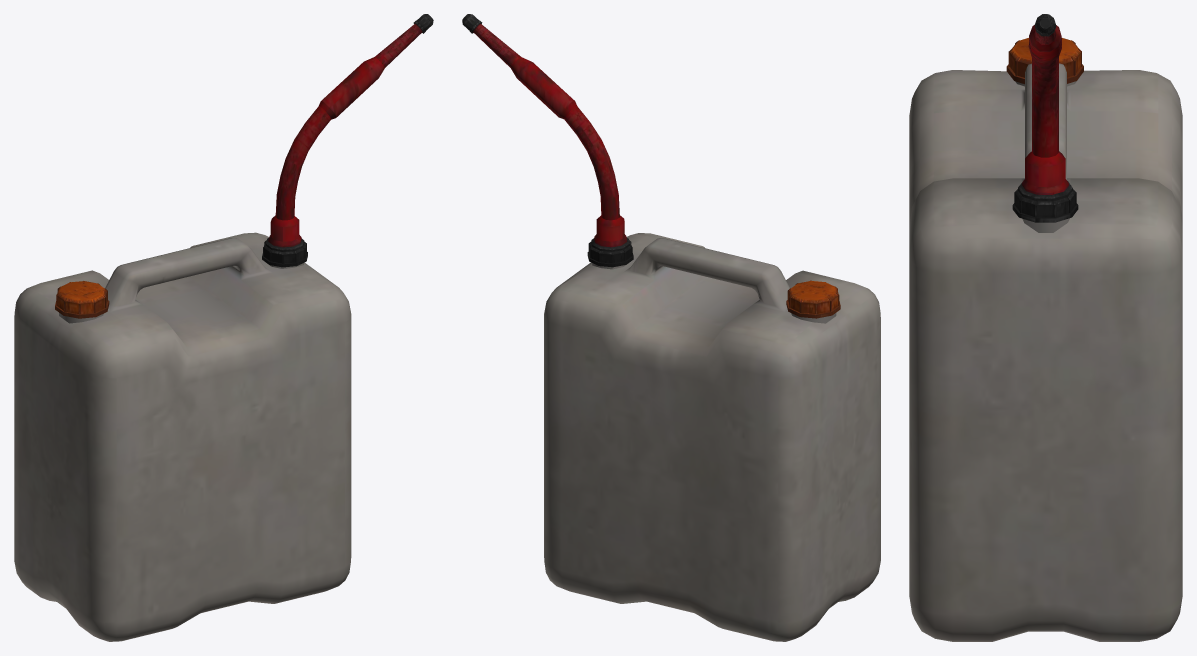
The model's file is jerrycan.glb.
3 views of the same model, side by side, from view 1: azimuth 30°, elevation 25°; view 2: azimuth 150°, elevation 25°; view 3: azimuth 270°, elevation 25° (orthographic). The views are drawn at different scales.
Parts seen in each view (by area): view 1: Box005; view 2: Box005; view 3: Box005.
Boxes of the visible parts, <box> form: Box005: <box>14,14,433,641</box>; Box005: <box>462,14,880,641</box>; Box005: <box>909,14,1182,641</box>.
Bounding box in the file's own units: 0.347 × 0.45 × 0.1555.
1 material, 1 textured.
